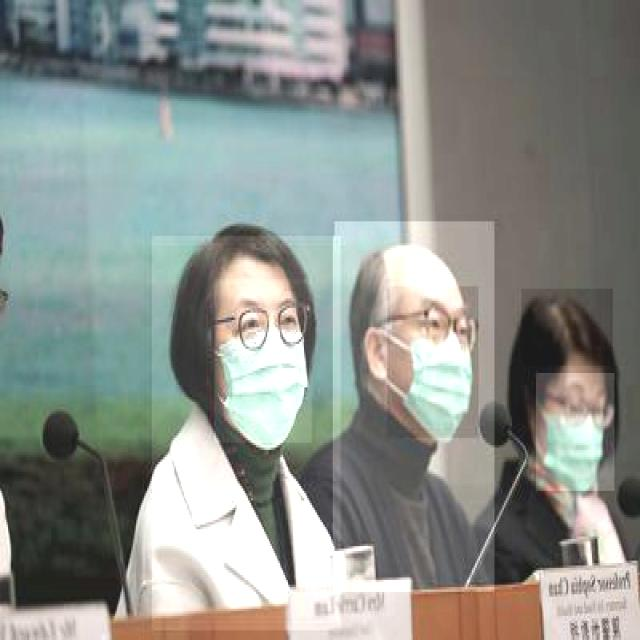face_mask: (214, 279, 312, 443), (388, 286, 478, 438), (534, 373, 614, 493)
glasses: (235, 298, 314, 352), (425, 301, 476, 351), (559, 397, 617, 431)
head_nohelmet: (520, 289, 613, 368), (212, 229, 318, 279), (363, 245, 477, 289)
person: (150, 236, 341, 633), (333, 222, 494, 594)
